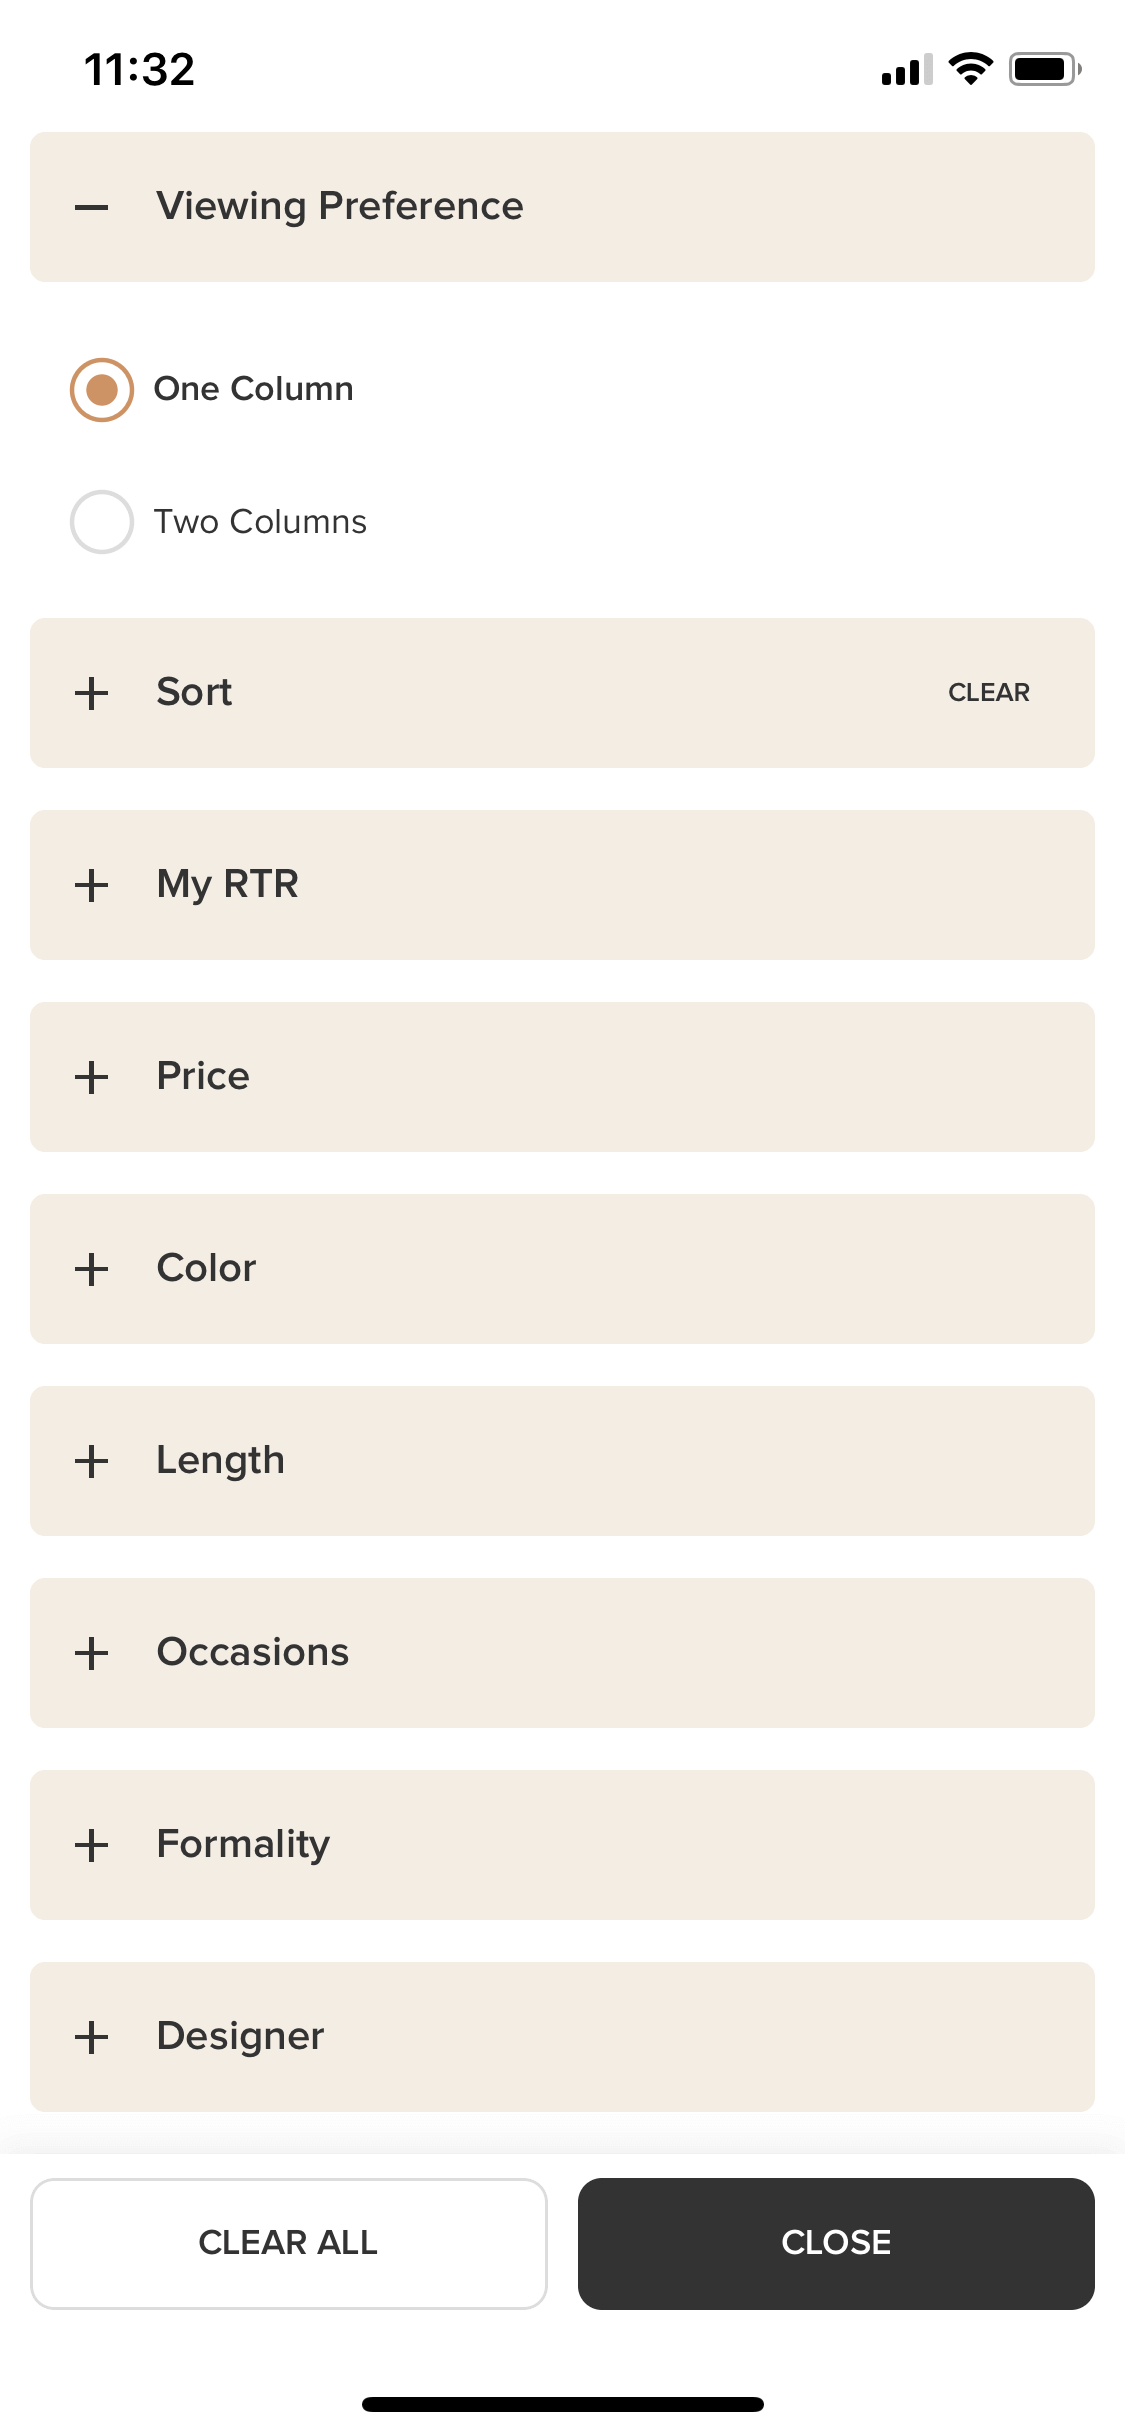Buttons: (573, 2155, 1092, 2327), (20, 2158, 553, 2323)
Radio buttons: (47, 325, 385, 438), (47, 461, 382, 569)
